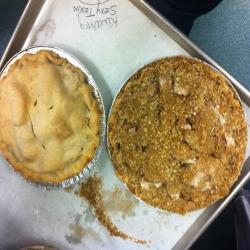apple_pie: (110, 57, 250, 215), (1, 52, 104, 191)
